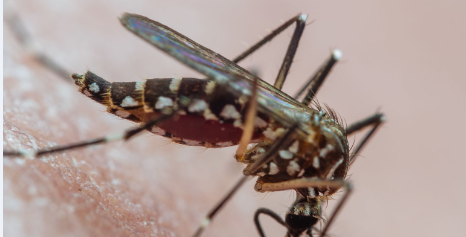dengue_mosquito: (71, 11, 388, 236)
